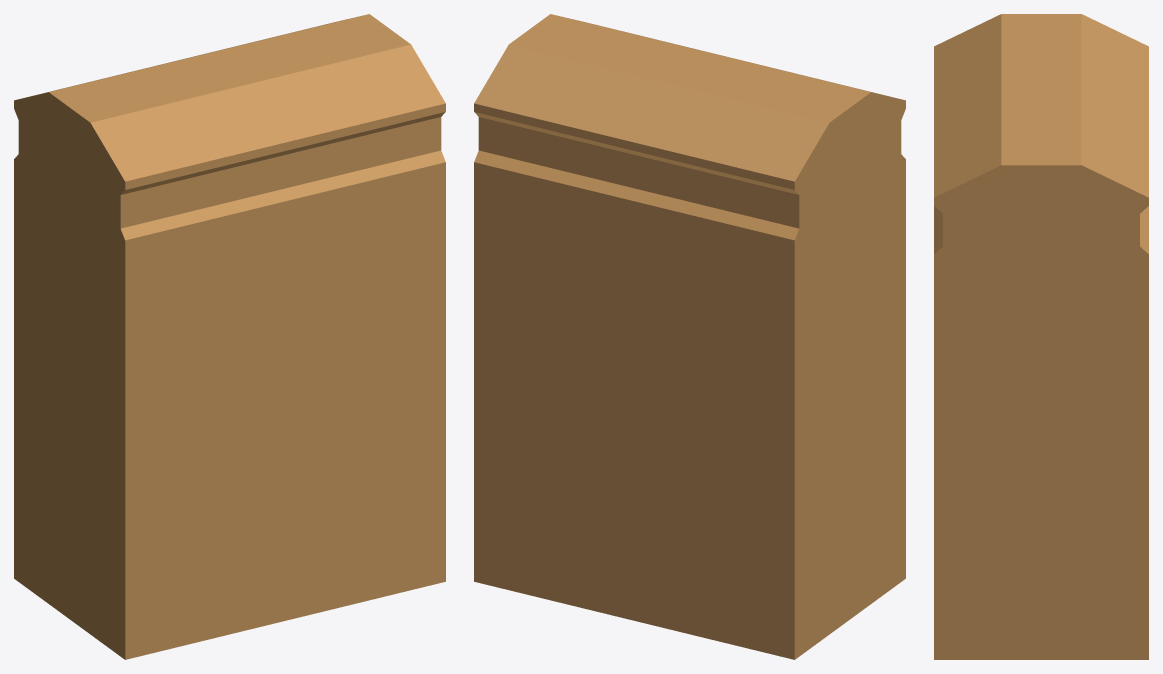
Rendered from wall-hindu.glb.
3 views of the same model, side by side, from view 1: azimuth 30°, elevation 25°; view 2: azimuth 150°, elevation 25°; view 3: azimuth 270°, elevation 25° (orthographic). The views are drawn at different scales.
Parts seen in each view (by area): view 1: wall-hindu; view 2: wall-hindu; view 3: wall-hindu.
Part boxes in pixels (x1,y1,x2,y2): wall-hindu: [14, 14, 445, 659]; wall-hindu: [474, 14, 905, 659]; wall-hindu: [934, 14, 1148, 659].
Size of the model in its own units: 4 by 6.1 by 2.4.
Materials: 1 (1 with a texture image).
